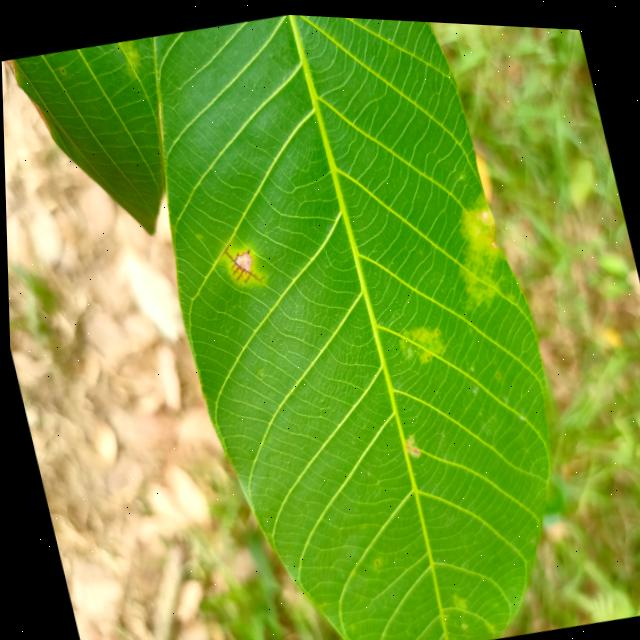Corynespora: (216, 236, 263, 289)
